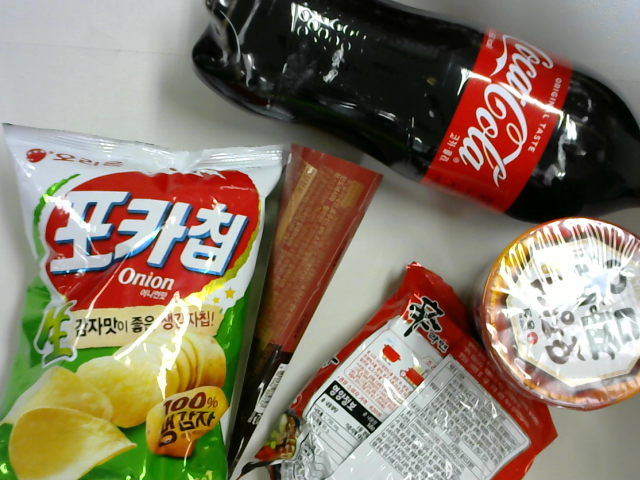Coca_Cola_1.5L: (192, 1, 640, 224)
Ojjam: (473, 215, 640, 407)
Pocachip_Onion: (11, 124, 274, 480)
Sinramen: (278, 269, 541, 480)
World_Cone_Choco: (226, 143, 382, 480)
